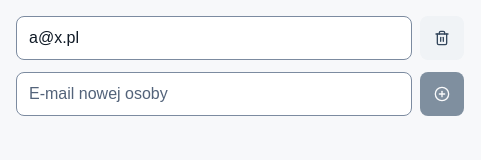
it: TrustedUsersField › odrzuca niepoprawny i zduplikowany adres
The image size is (481, 160).
Type "bez-malpy" into the field named "Adres e-mail nowej zaufanej osoby".
click(214, 94); type("bez-malpy")  # box x1=16 y1=72 x2=412 y2=116
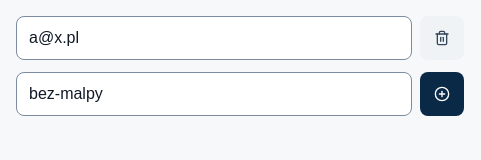
Click the button named "Dodaj osobę".
click(442, 94)  # box x1=420 y1=72 x2=464 y2=116
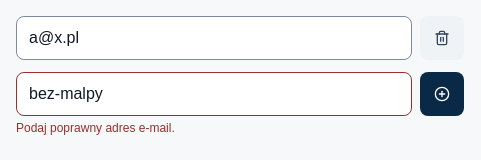
expect the message reads "Podaj poprawny adres e-mail.": met, box x1=16 y1=121 x2=175 y2=135
Replace the text in the 2nd field named "Adres e-mail nowej zaufanej osoby" with "A@x.pl" at (214,94), box x1=16 y1=72 x2=412 y2=116
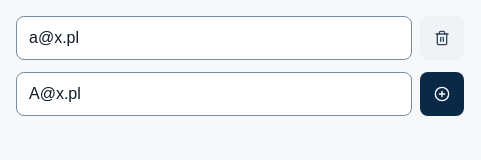
Click the button named "Dodaj osobę".
click(442, 94)  # box x1=420 y1=72 x2=464 y2=116
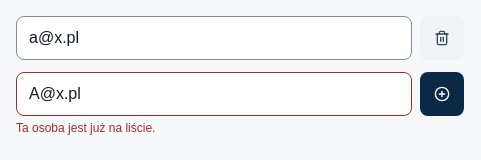
expect the message reads "Ta osoba jest już na liście.": met, box x1=16 y1=121 x2=155 y2=135
